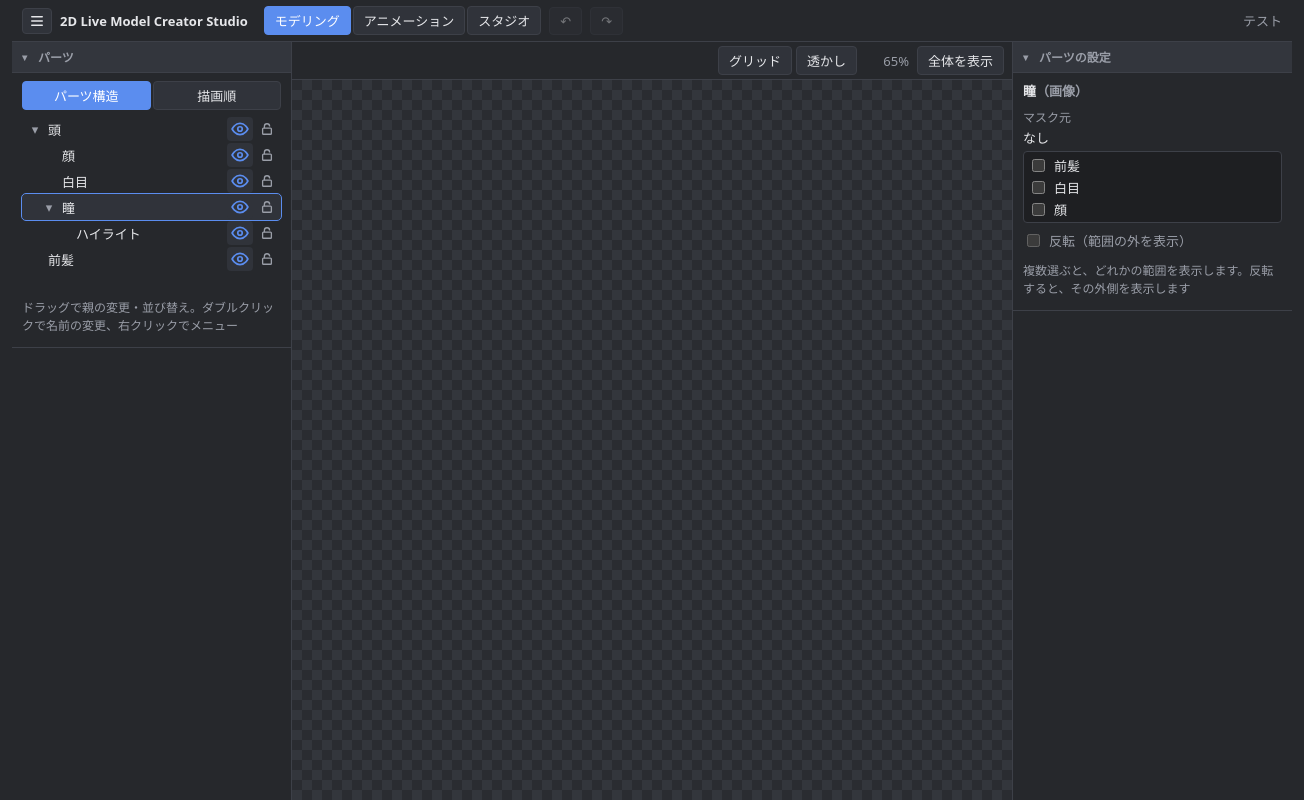
Test: 詳細: 複数のマスク元と反転 › 複数選び、反転すると保存され、外すと「なし」に戻る
What coordinates should you click on to do the following:
click the checkbox labelled "白目"
I would click on:
 (1038, 187)
Its box is [1032,180,1045,194].
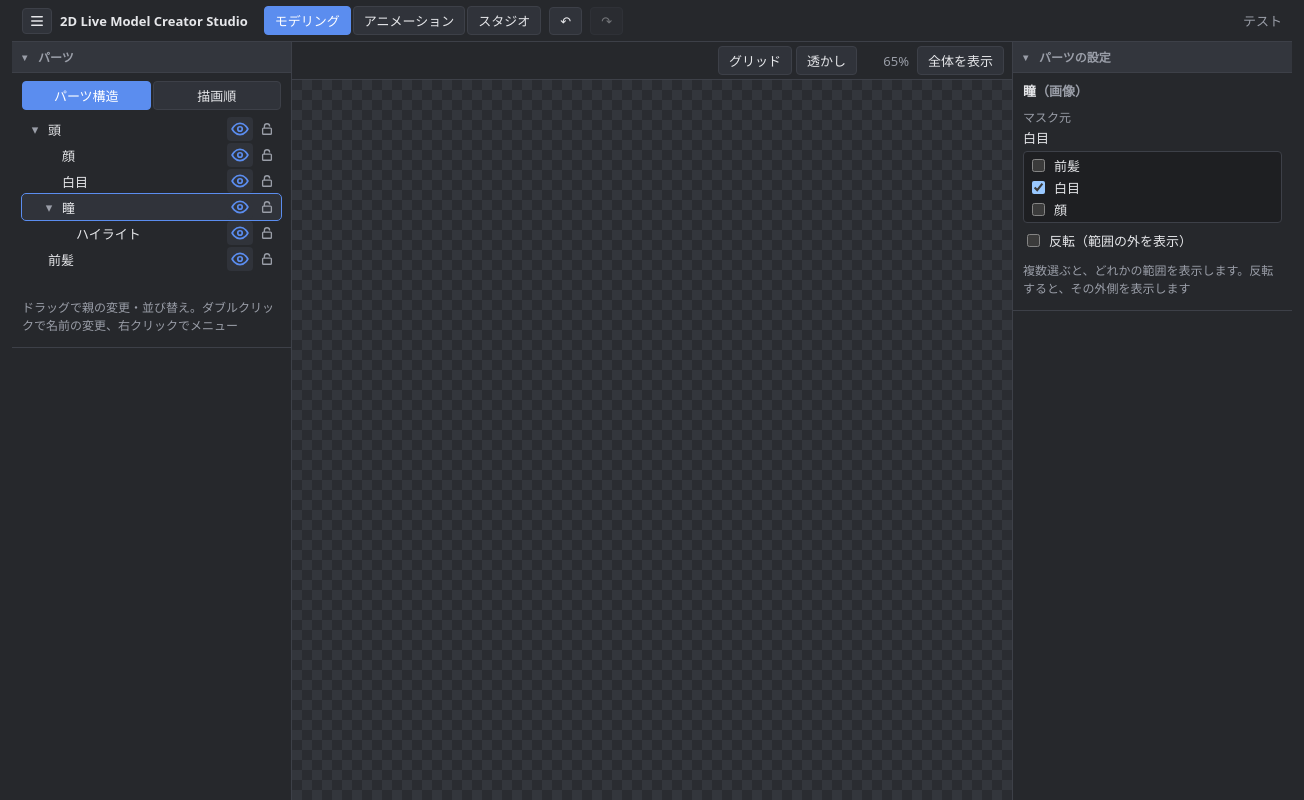
What coordinates should you click on to do the following:
click the checkbox labelled "前髪"
I would click on:
 (1038, 165)
Its box is [1032,158,1045,172].
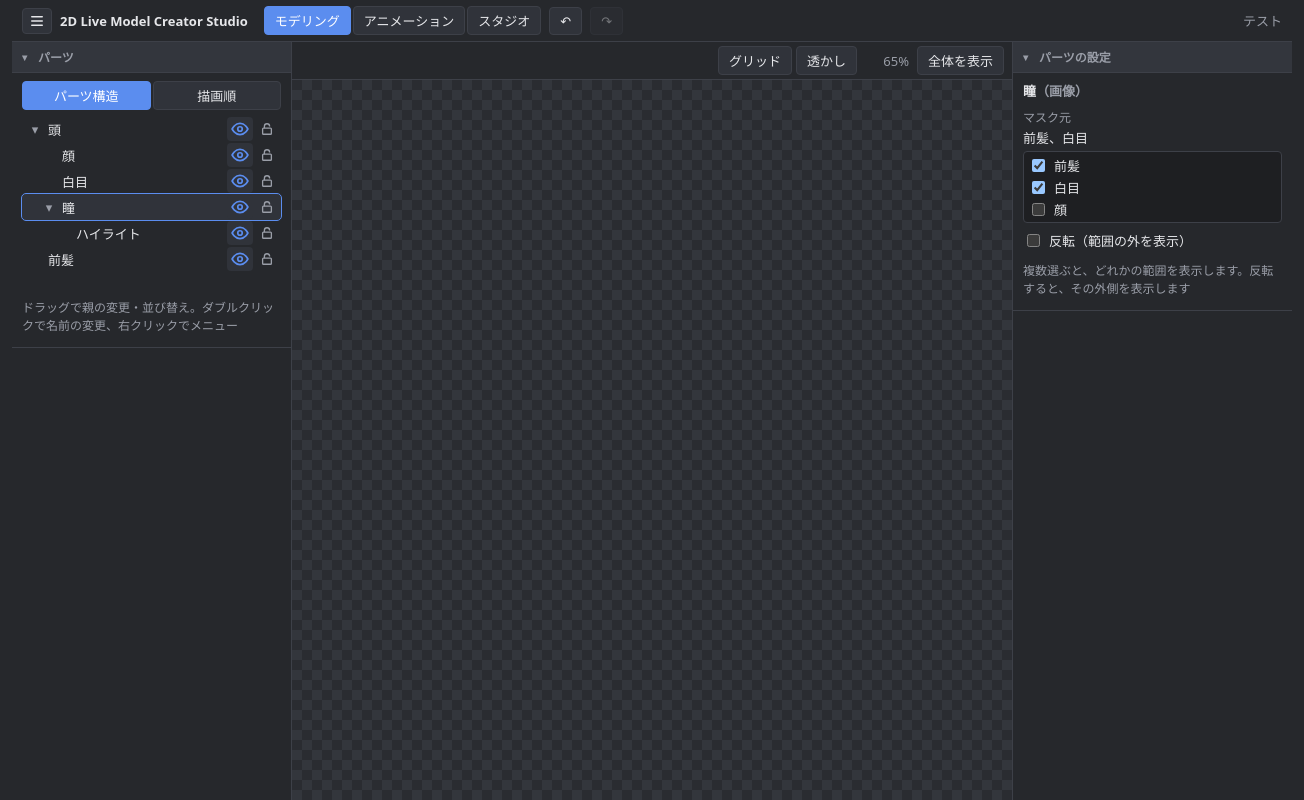
Expected: the checkbox labelled "白目" is checked, [1032,180,1045,194]
Expected: the checkbox labelled "前髪" is checked, [1032,158,1045,172]
Expected: the text with test id "mask-summary" reads "前髪、白目", [1023,129,1088,147]
What coordinates should you click on to do the following:
click the checkbox labelled "反転（範囲の外を表示）"
I would click on:
 (1034, 240)
Its box is [1027,234,1040,246].
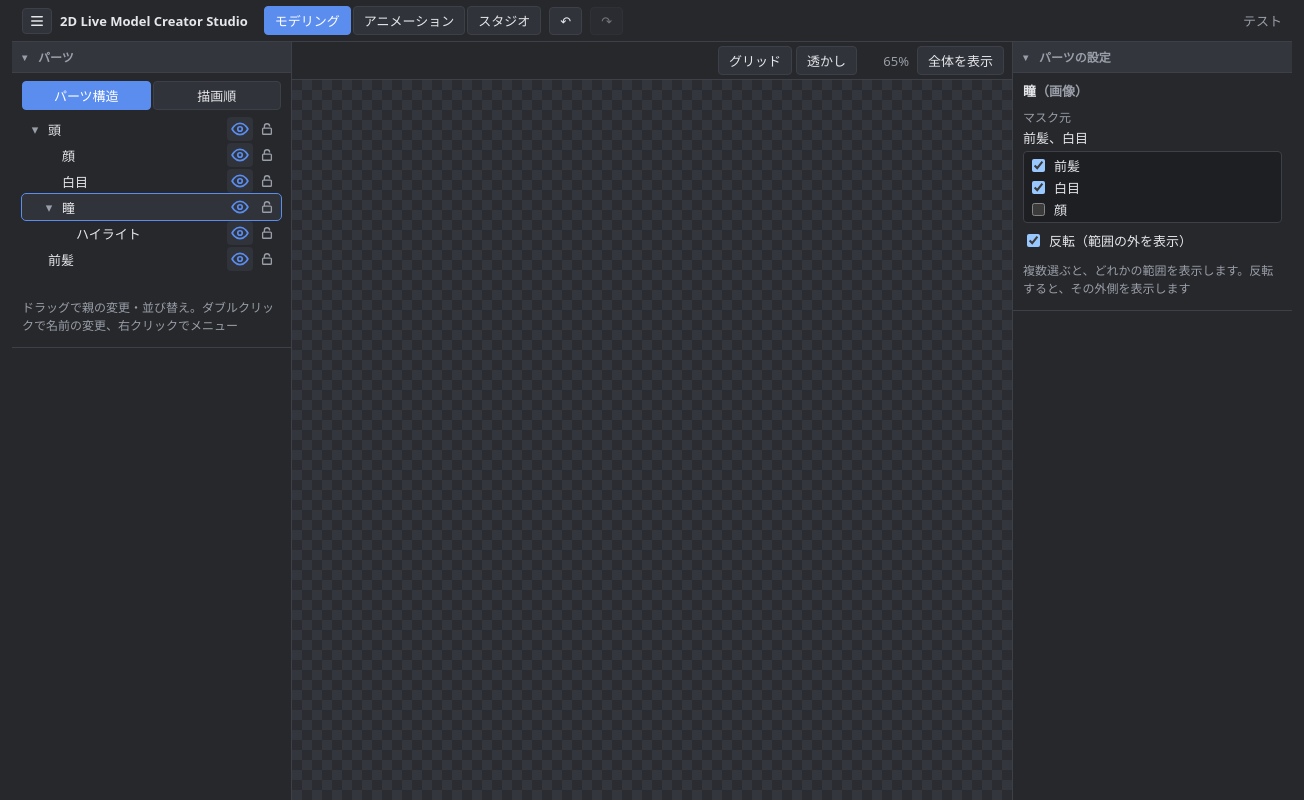
Expected: the checkbox labelled "反転（範囲の外を表示）" is checked, [1027,234,1040,246]
What coordinates should you click on to do the following:
click the checkbox labelled "白目"
I would click on:
 (1038, 187)
Its box is [1032,180,1045,194].
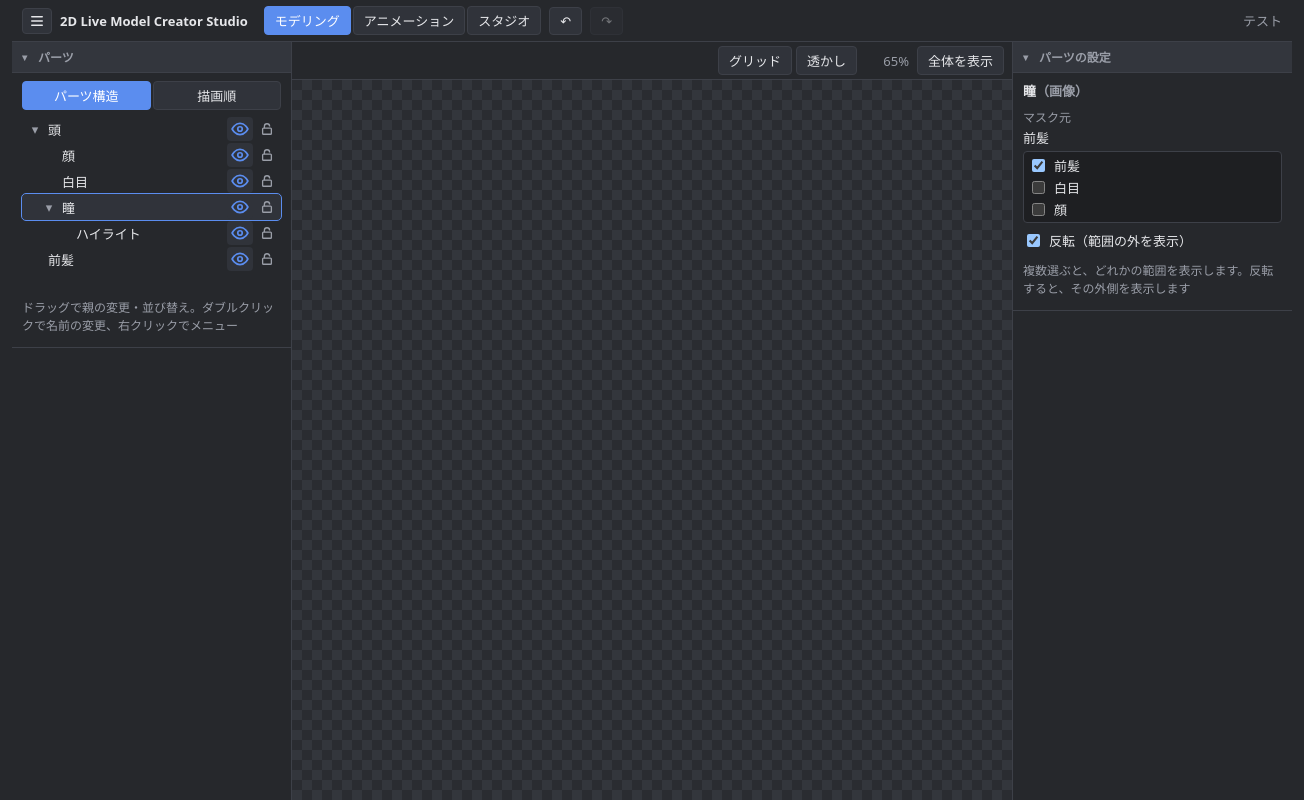
What coordinates should you click on to do the following:
click the checkbox labelled "前髪"
I would click on:
 (1038, 165)
Its box is [1032,158,1045,172].
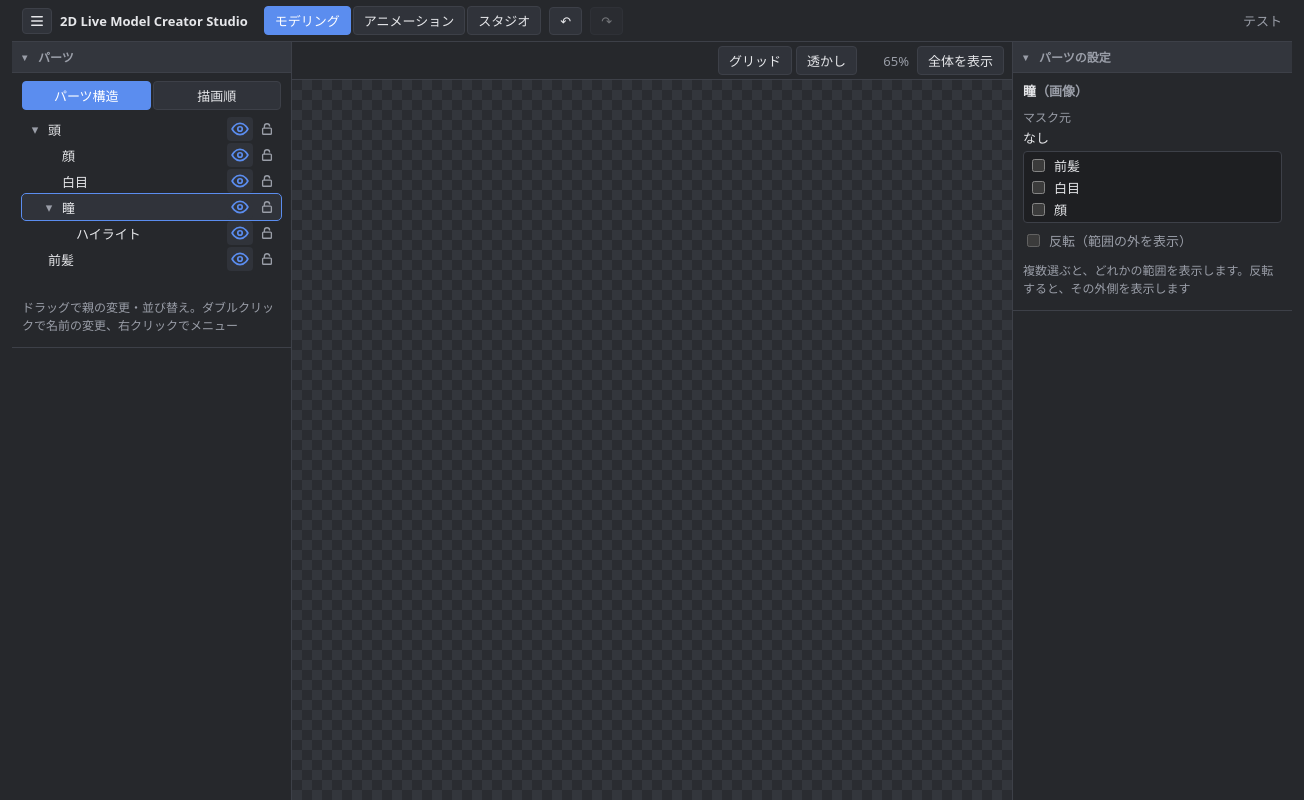
Expected: the checkbox labelled "反転（範囲の外を表示）" is not checked, [1027,234,1040,246]
Expected: the checkbox labelled "反転（範囲の外を表示）" is disabled, [1027,234,1040,246]
